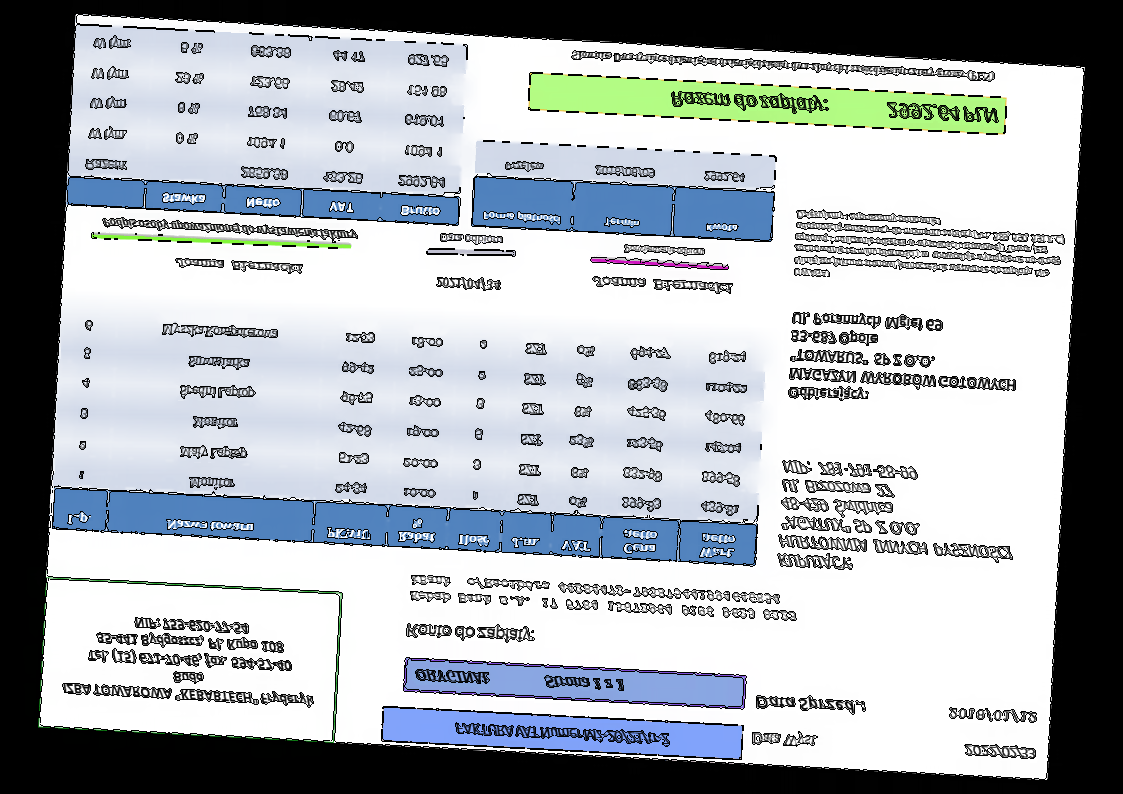Table: (50, 304, 768, 567), (66, 24, 470, 227), (471, 139, 777, 242)
TextBox: (775, 457, 1019, 582), (61, 610, 320, 709), (786, 307, 1021, 413), (792, 207, 1068, 294), (408, 571, 800, 624), (569, 47, 996, 84), (668, 85, 1000, 126), (100, 215, 357, 244), (453, 719, 672, 748), (413, 667, 628, 695), (404, 618, 537, 647), (590, 273, 734, 296), (754, 691, 866, 718), (174, 255, 304, 276), (946, 705, 1039, 727), (960, 741, 1039, 762), (433, 272, 503, 294), (749, 730, 824, 750), (623, 243, 706, 259), (438, 231, 503, 247)
